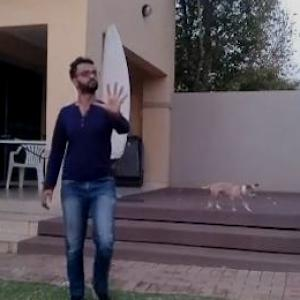follow_hand: (93, 77, 135, 119)
